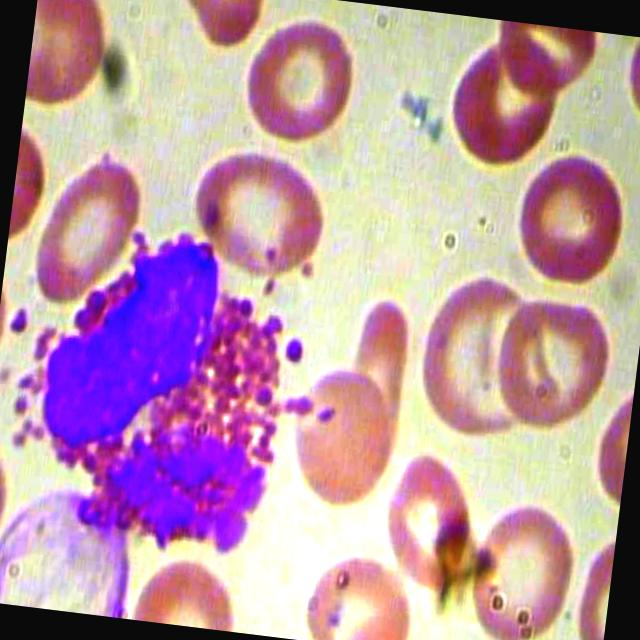RBC: (410, 262, 550, 449), (182, 144, 350, 288), (22, 144, 149, 322), (431, 24, 568, 182), (498, 143, 640, 295), (278, 360, 398, 517), (231, 9, 365, 148), (461, 493, 586, 640), (381, 440, 487, 606), (491, 295, 616, 435), (342, 276, 418, 464), (285, 548, 425, 640)
WBC: (0, 204, 360, 588)
